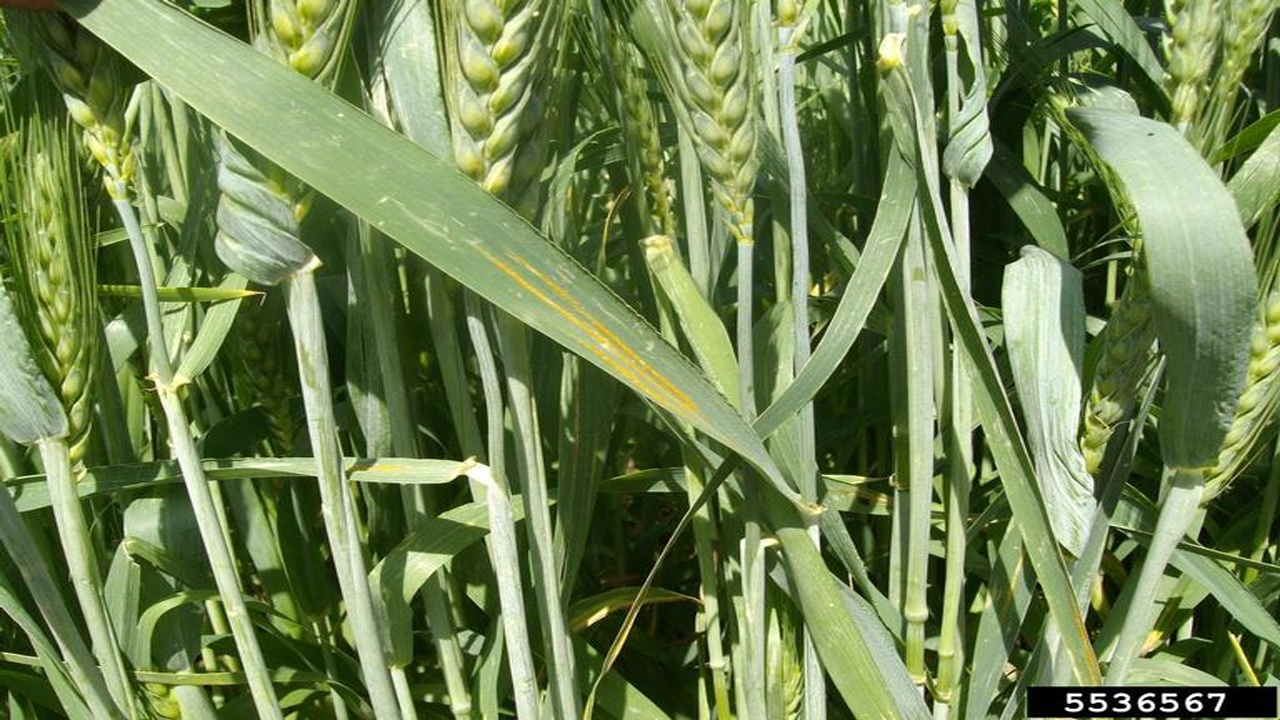stripe_rust: (53, 1, 775, 486)
